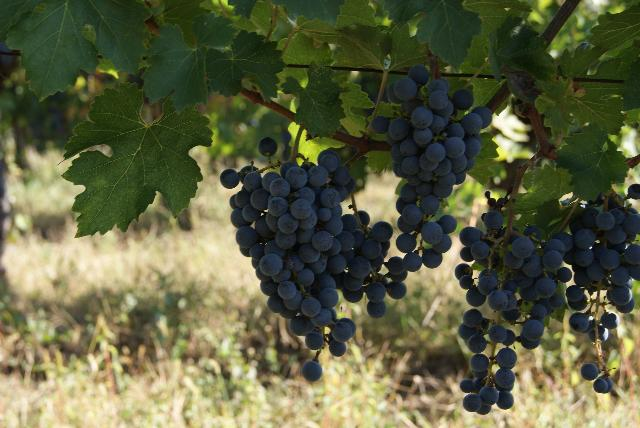grapes: (220, 150, 391, 356), (370, 65, 491, 290), (455, 210, 574, 349), (570, 190, 640, 394), (459, 309, 518, 414)
